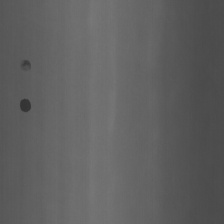oil_spot: (19, 95, 33, 114), (19, 57, 32, 73)
